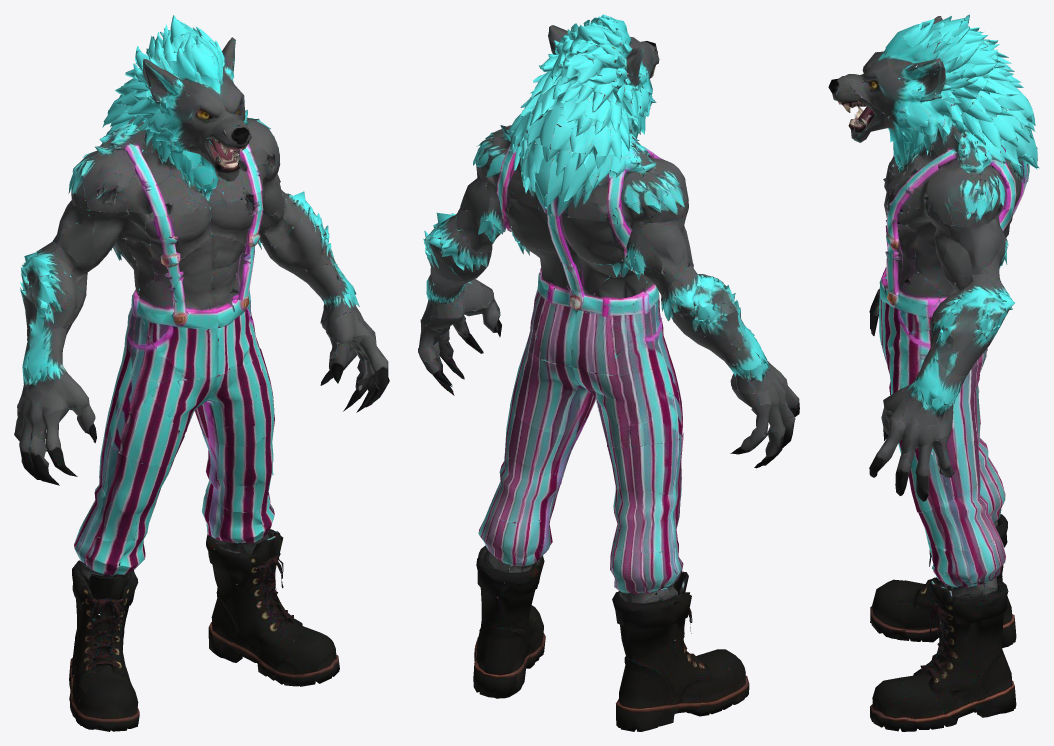
The model's file is 10_neon_wolfman.glb.
The picture shows the model from 3 angles, left to right: view 1: azimuth 30°, elevation 25°; view 2: azimuth 150°, elevation 25°; view 3: azimuth 270°, elevation 25°; orthographic projection. The views are drawn at different scales.
Parts seen in each view (by area): view 1: mesh_node; view 2: mesh_node; view 3: mesh_node.
Boxes of the visible parts, x1=… form: mesh_node: x1=14, y1=15, x2=389, y2=731; mesh_node: x1=418, y1=14, x2=799, y2=731; mesh_node: x1=828, y1=14, x2=1039, y2=731.
Bounding box in the file's own units: 1.06 × 1.9 × 0.5489.
1 material, 1 textured.
